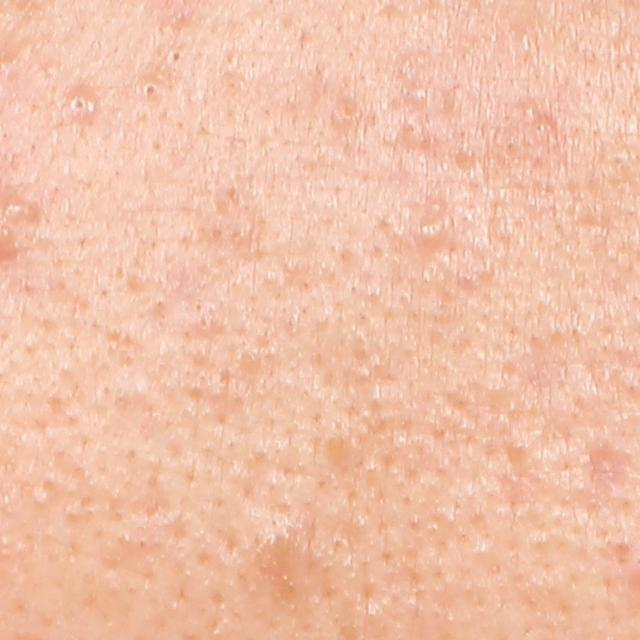atrophic_scar: (586, 442, 632, 496)
comedo: (265, 514, 315, 557), (60, 90, 95, 122), (414, 216, 445, 245), (402, 81, 432, 110), (519, 100, 543, 129), (137, 76, 162, 102), (165, 44, 183, 67)
